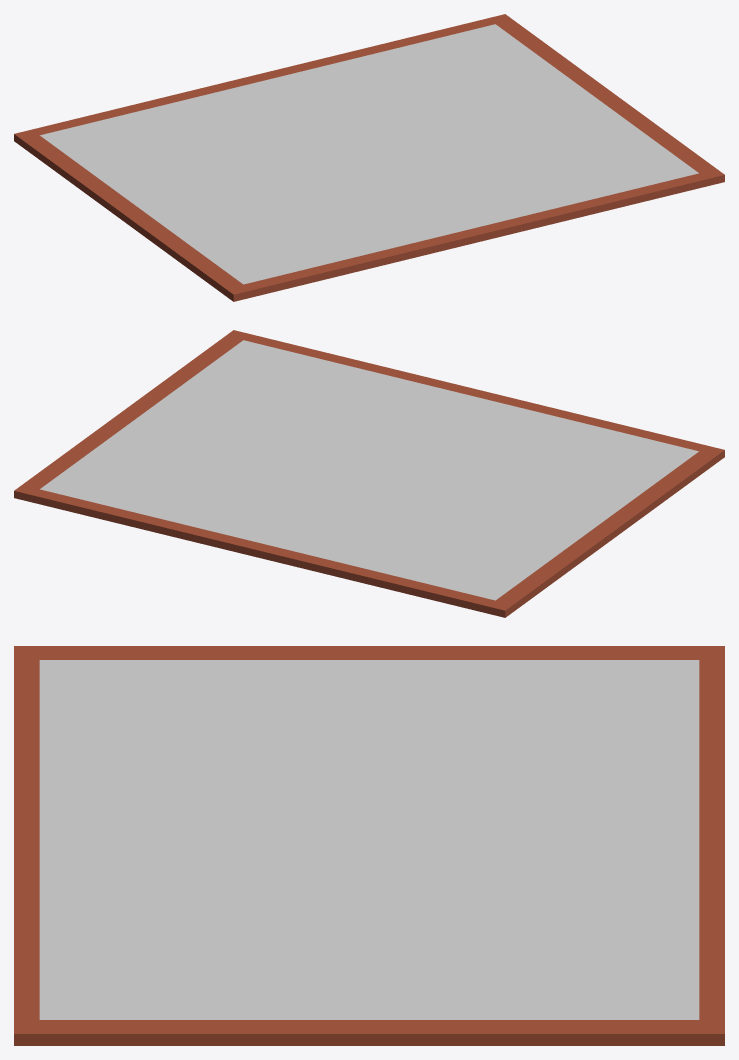
Rendered from mordido.fbx.
The picture shows the model from 3 angles, top to bottom: view 1: azimuth 30°, elevation 25°; view 2: azimuth 150°, elevation 25°; view 3: azimuth 270°, elevation 25°; orthographic projection. The views are drawn at different scales.
Visible parts, largest first — view 1: Plane; view 2: Plane; view 3: Plane.
Boxes of the visible parts, x1,y1,x2,y2 form: Plane: (14, 14, 724, 301); Plane: (14, 330, 724, 617); Plane: (14, 646, 724, 1045).
Size of the model in its own units: 1246 by 17.62 by 965.
